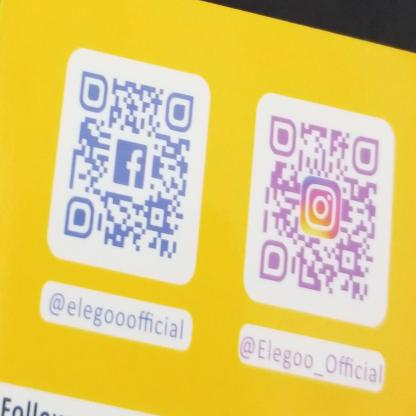qr: (64, 68, 201, 265), (253, 110, 388, 307)
